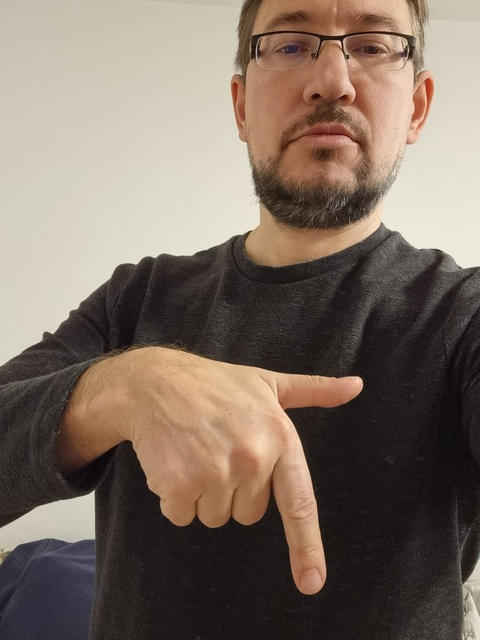GestDown: (160, 367, 363, 595)
